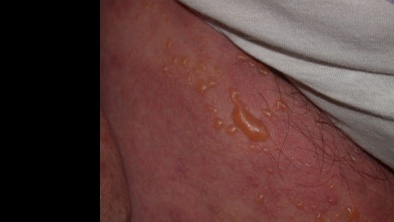SJS-TEN: (133, 0, 387, 222)
